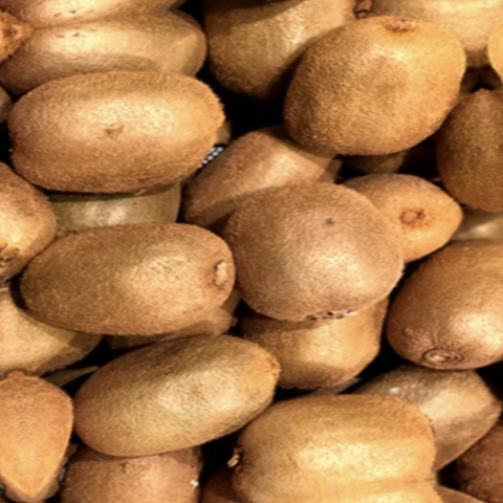kiwi: (209, 165, 422, 364), (69, 306, 302, 486), (0, 50, 241, 218), (256, 0, 483, 176), (0, 205, 254, 360), (228, 367, 450, 503)
